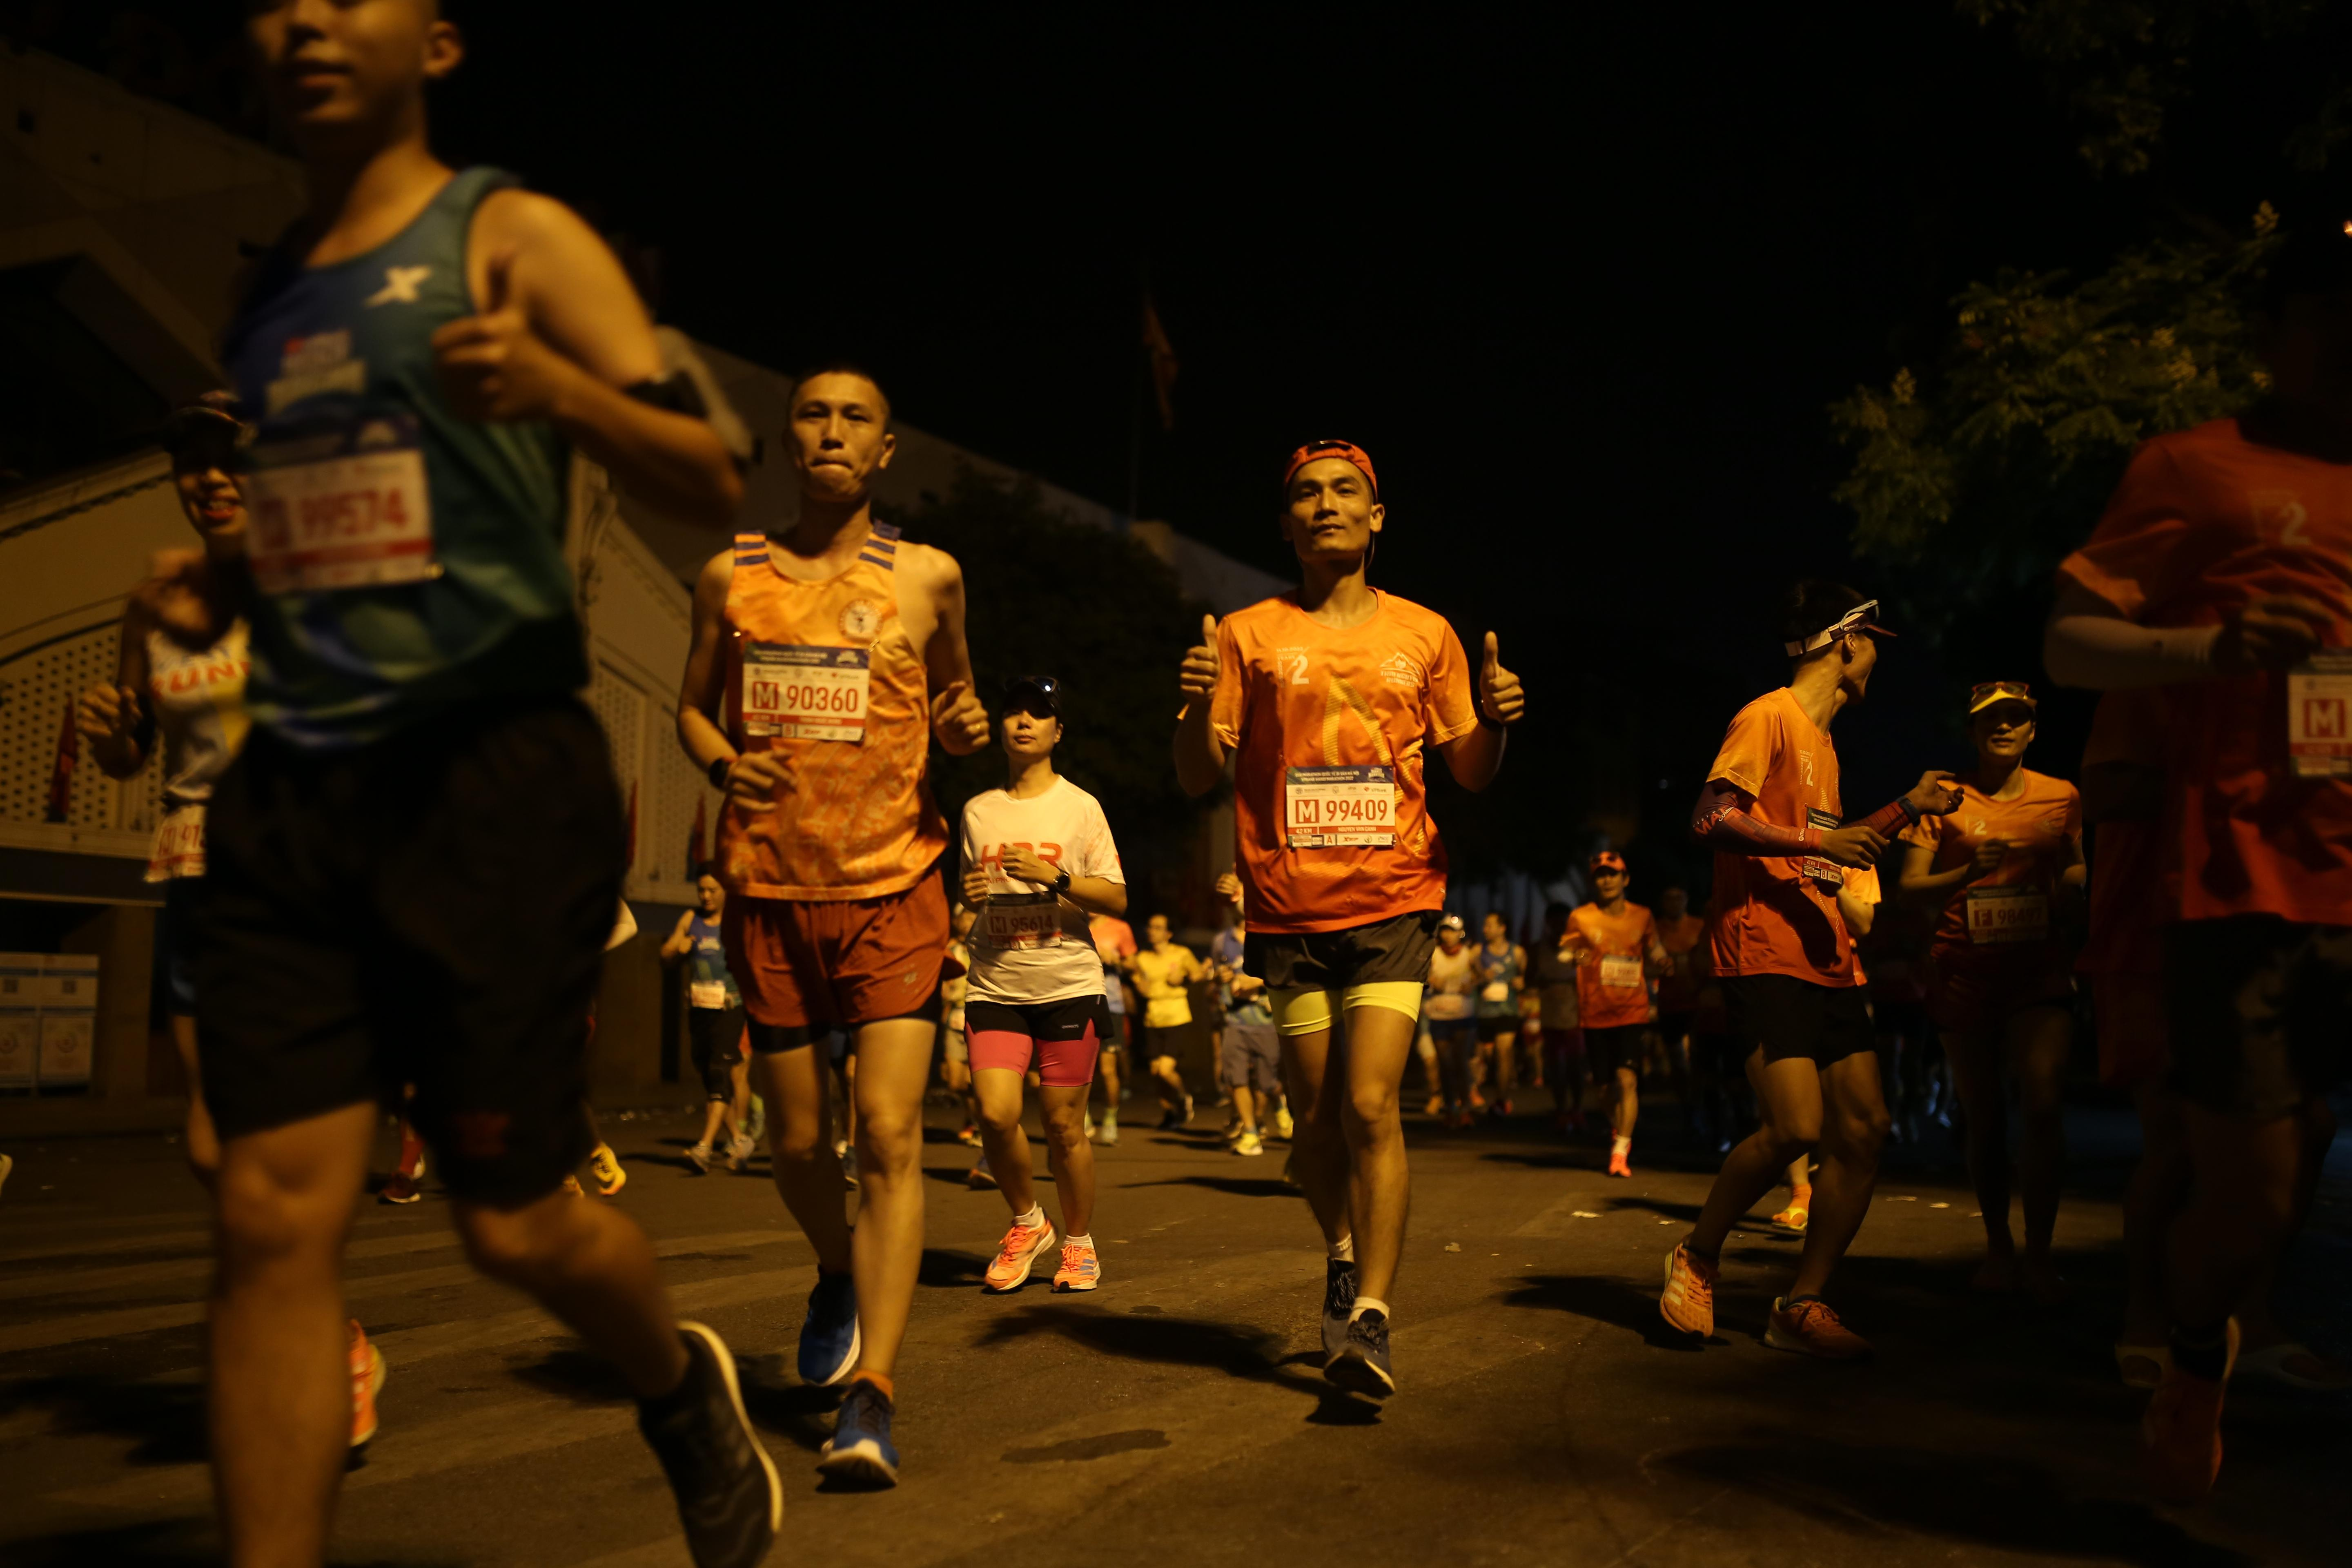bib: (241, 441, 434, 593), (742, 642, 870, 744), (1286, 768, 1396, 849), (2284, 651, 2352, 780), (1969, 884, 2042, 948), (987, 896, 1060, 950), (150, 808, 203, 877), (1804, 812, 1844, 887), (1601, 955, 1641, 987), (691, 980, 726, 1010)
